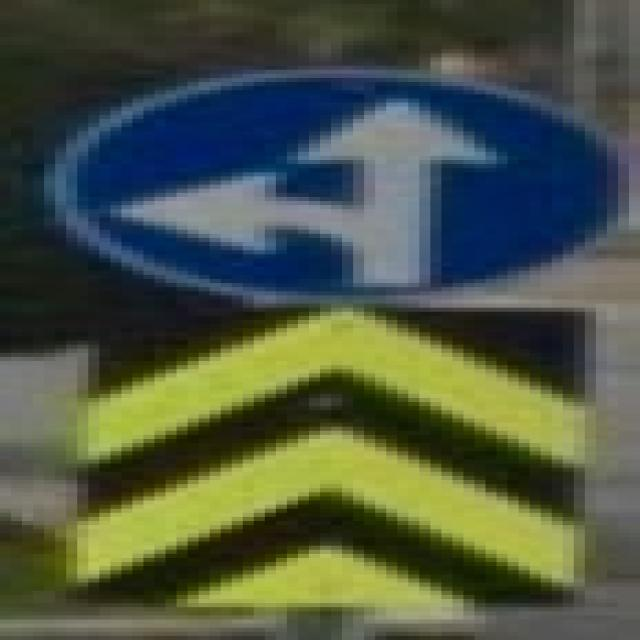Straight or Left: (45, 71, 630, 296)
